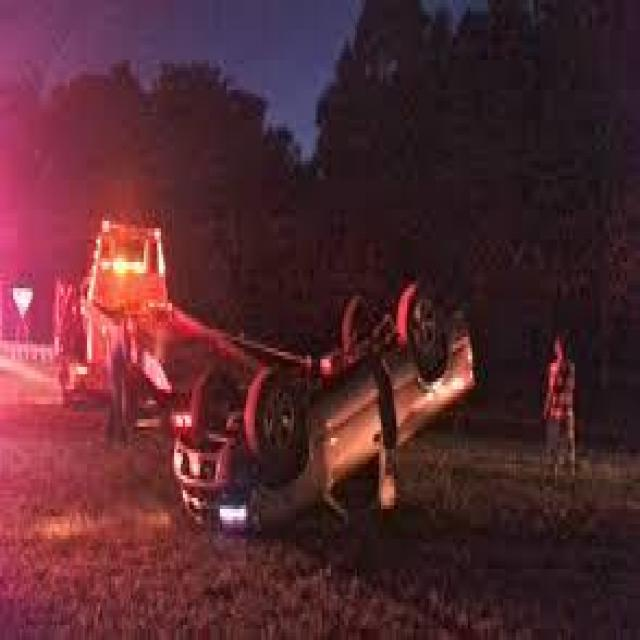accident: (172, 290, 477, 541)
